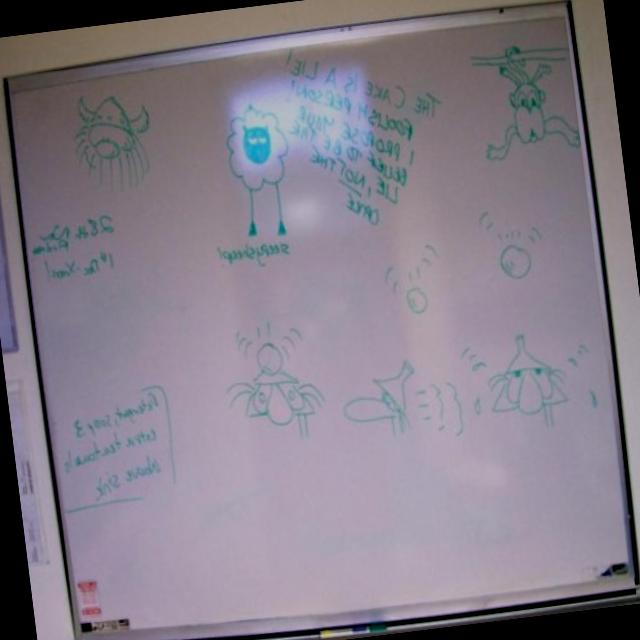White-board: (1, 4, 631, 636)
